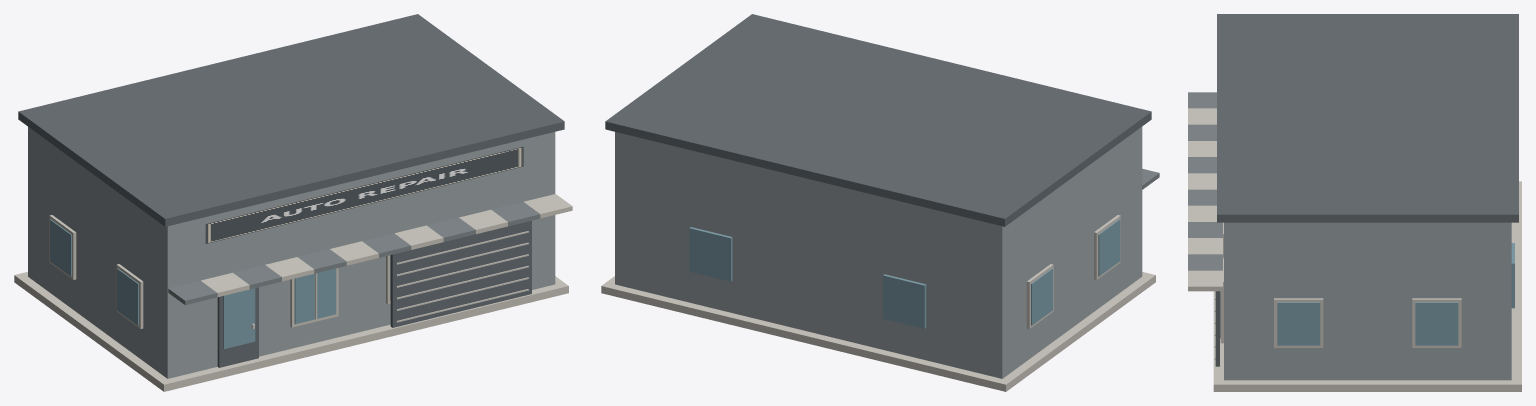
File: auto_repair.glb
3 views of the same model, side by side, from view 1: azimuth 30°, elevation 25°; view 2: azimuth 150°, elevation 25°; view 3: azimuth 270°, elevation 25° (orthographic). The views are drawn at different scales.
Parts seen in each view (by area): view 1: world; view 2: world; view 3: world.
Boxes of the visible parts, x1,y1,x2,y2 form: world: (14, 14, 572, 391); world: (601, 14, 1159, 391); world: (1188, 14, 1521, 391).
Size of the model in its own units: 11.7 by 4.73 by 8.12.
2 materials, 1 textured.
